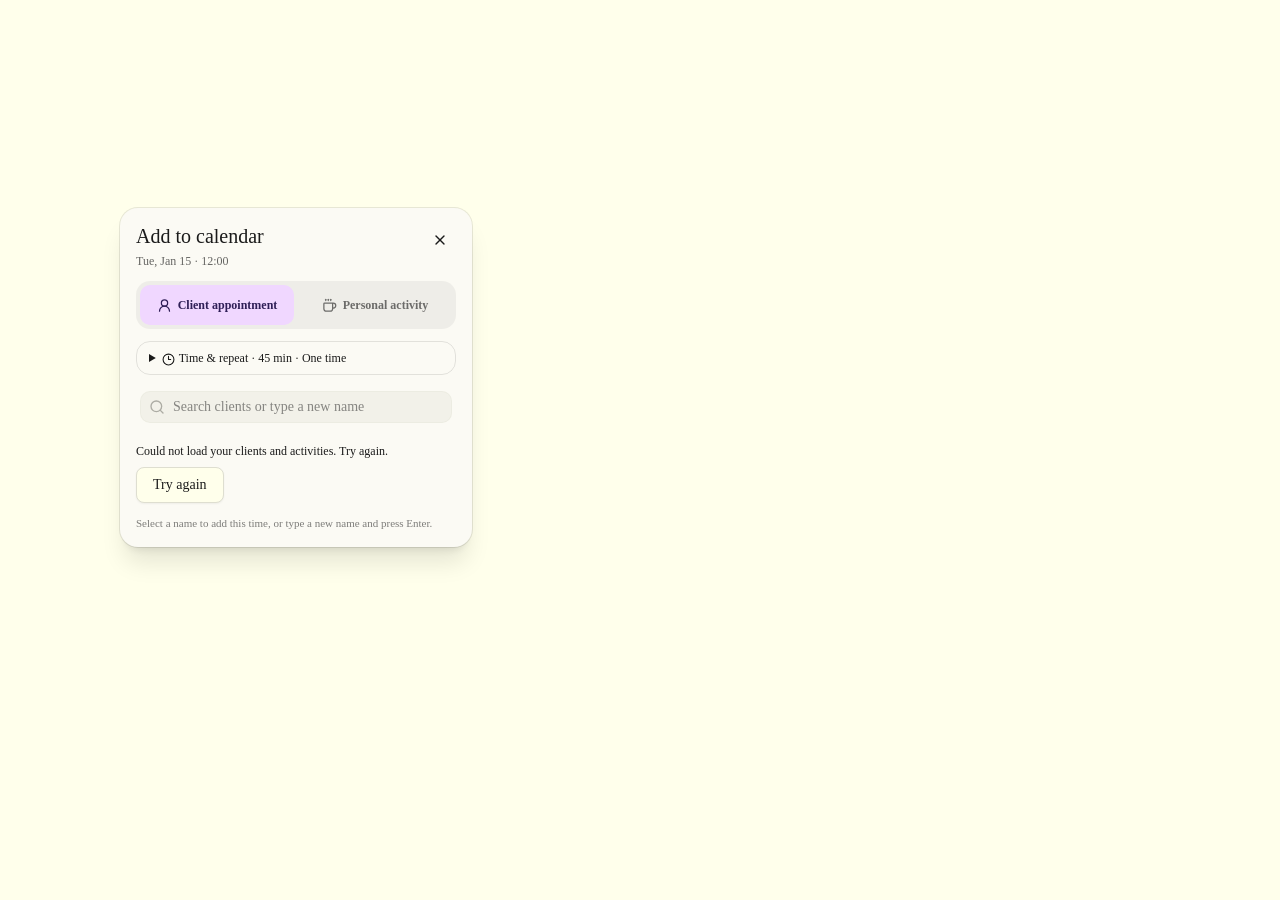
it: calendar creation popover › offers retry when names cannot be loaded and does not create duplicates from incomplete results
Expected: the text "Could not load your clients and activities. Try again." is shown, [136,444,388,458]
In the dropdown labelled "Search clients or type a new name": coordinates (308, 407) [165,397,451,417], type "Ada Lovelace"
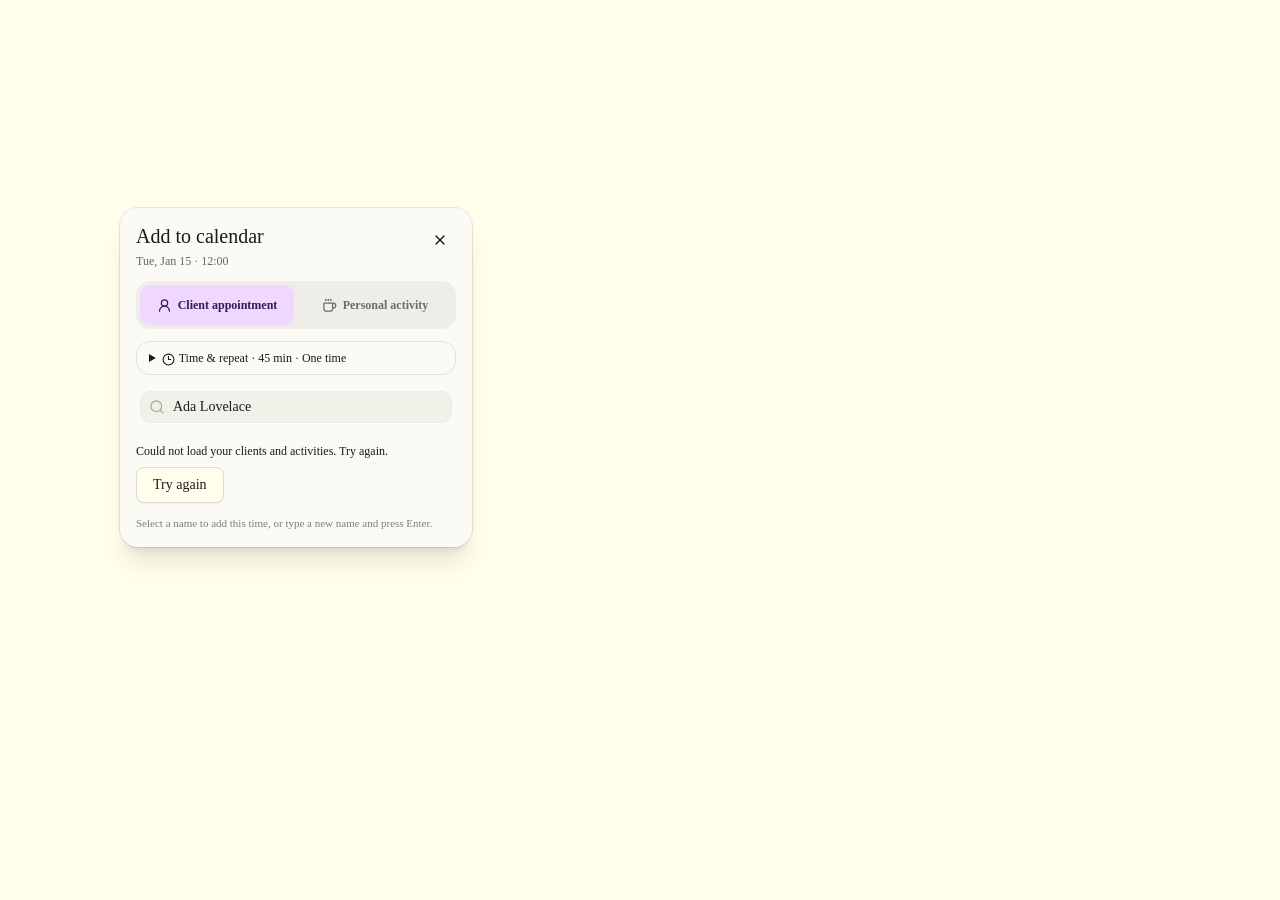
Press Enter
Click the button "Try again": coordinates (180, 485) [136,467,224,503]
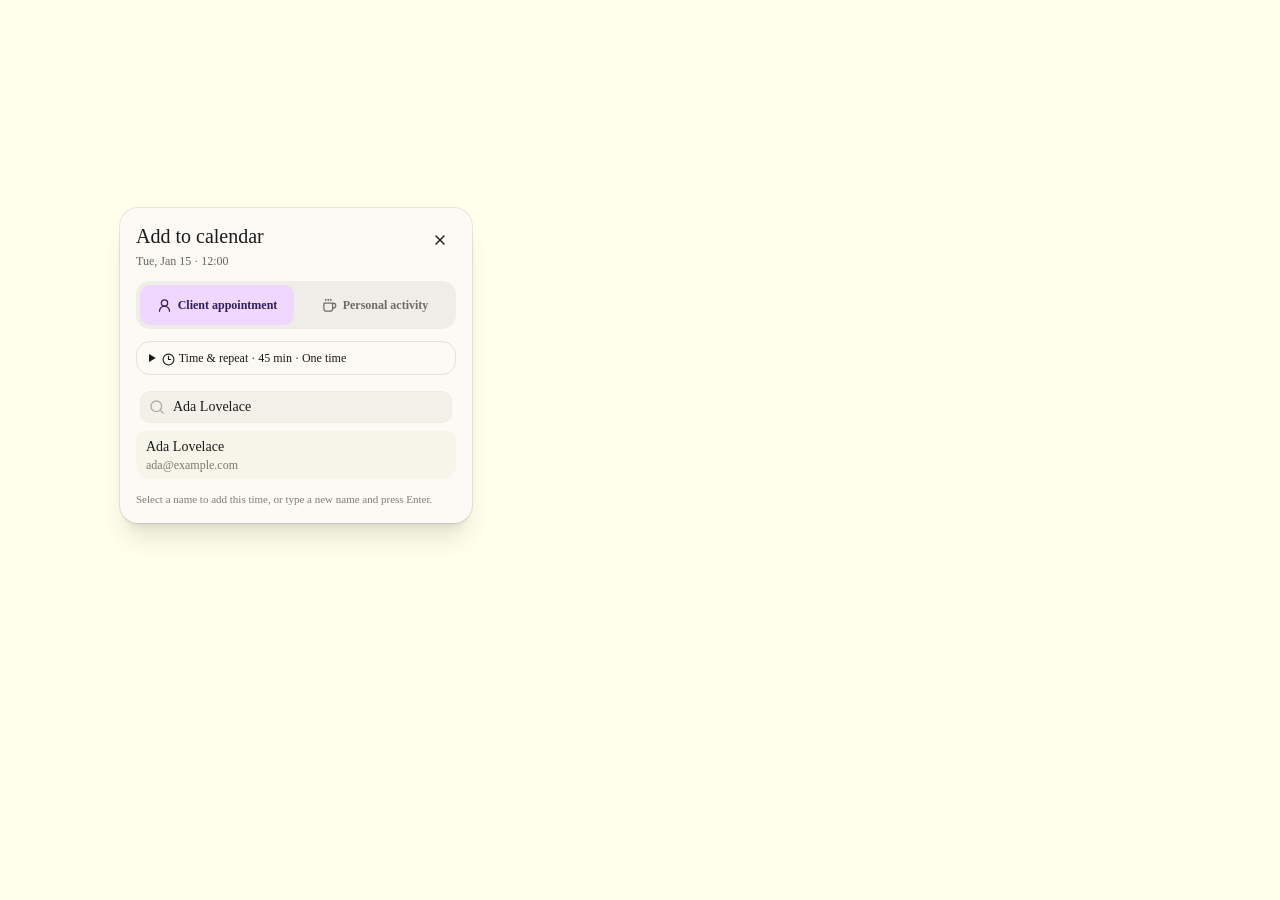
Now the option "Ada Lovelace ada@example.com" is shown, box [136,431,456,479]
